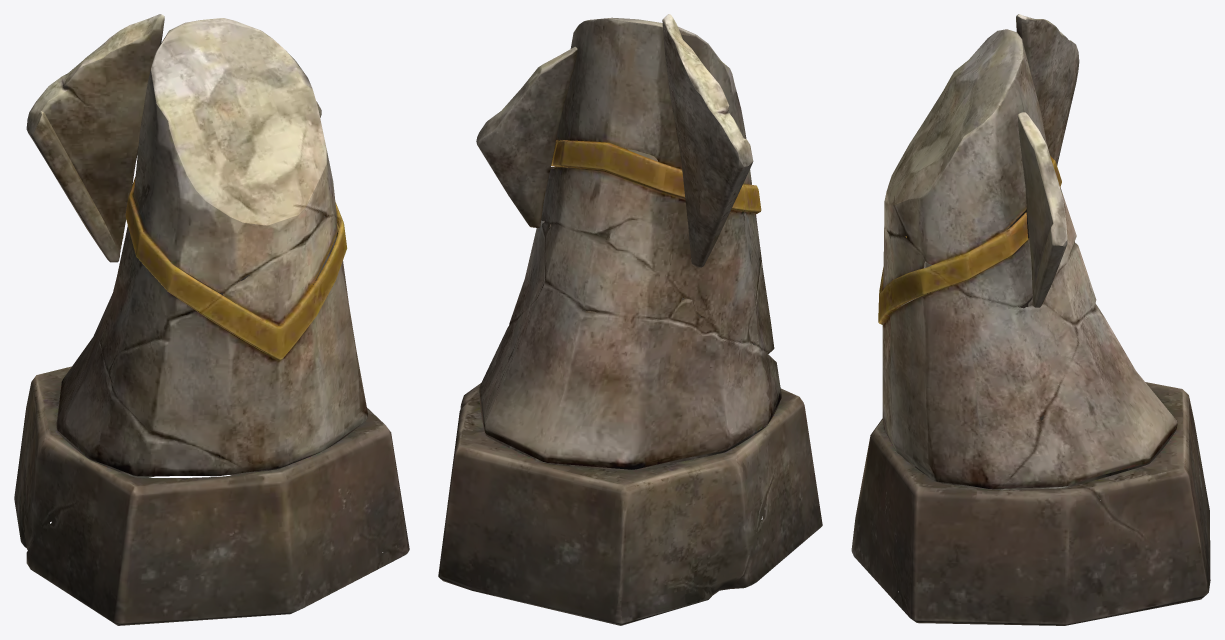
The picture shows the model from 3 angles, left to right: view 1: azimuth 30°, elevation 25°; view 2: azimuth 150°, elevation 25°; view 3: azimuth 270°, elevation 25°; orthographic projection. The views are drawn at different scales.
Visible parts, largest first — view 1: SM_Dragonkin_Statue_01v3_LOD0; view 2: SM_Dragonkin_Statue_01v3_LOD0; view 3: SM_Dragonkin_Statue_01v3_LOD0.
Part boxes in pixels (box(x1,y1,x2,y2)): SM_Dragonkin_Statue_01v3_LOD0: box(14, 14, 409, 625); SM_Dragonkin_Statue_01v3_LOD0: box(438, 14, 822, 625); SM_Dragonkin_Statue_01v3_LOD0: box(851, 14, 1210, 625).
Bounding box in the file's own units: 1.84 × 3.09 × 1.93.
Materials: 1 (1 with a texture image).
